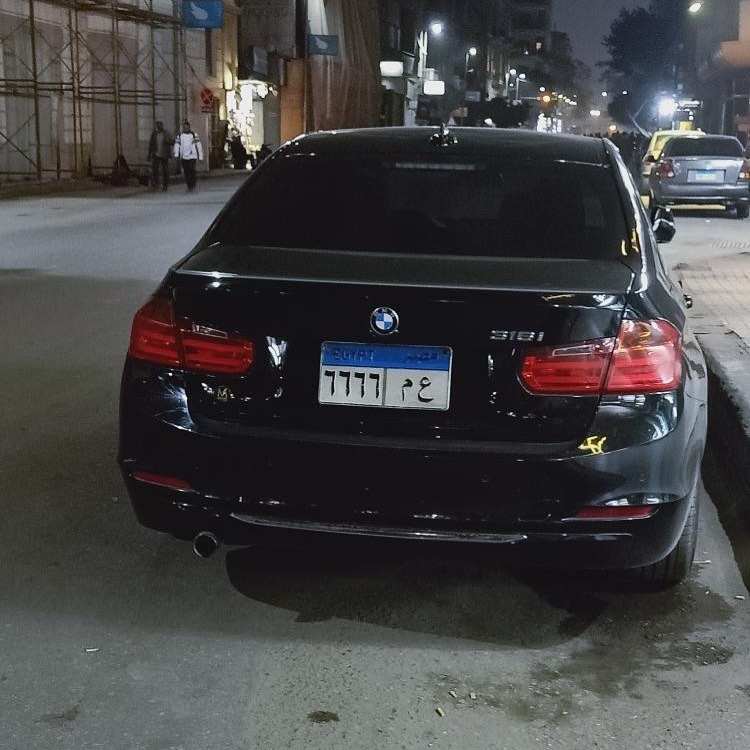carpl: (311, 325, 459, 424)
